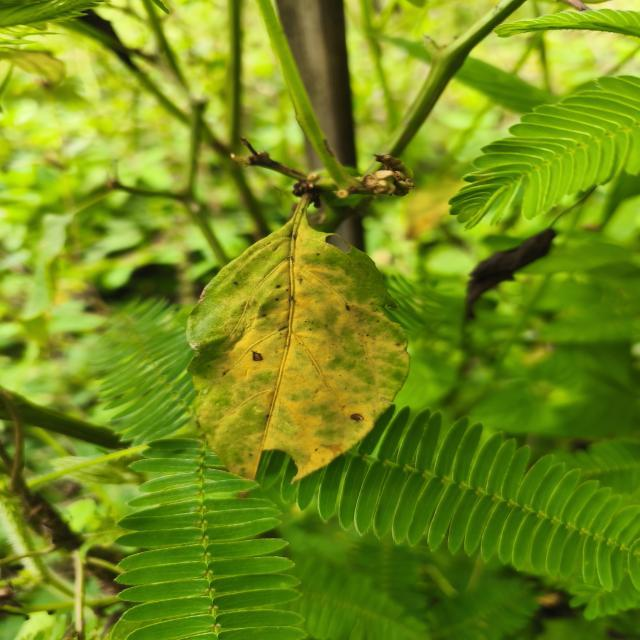Virus Kuning: (184, 217, 412, 487)
